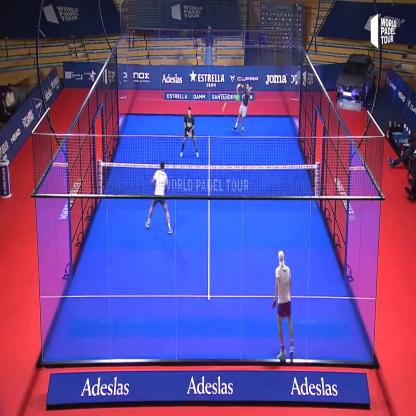ball: (219, 94, 229, 115)
